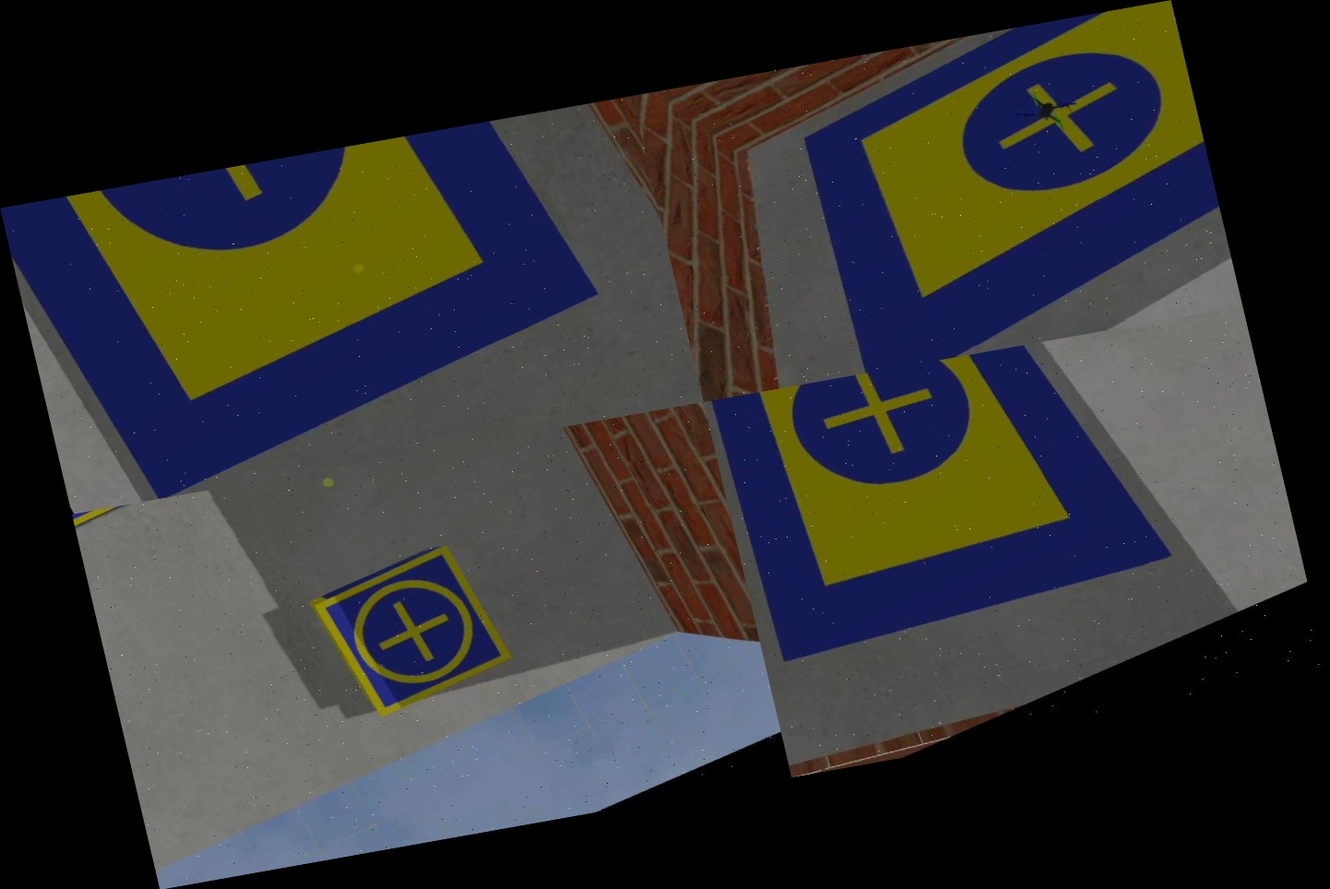large_base: (0, 108, 632, 514), (711, 0, 1242, 387), (704, 327, 1196, 719)
small_base: (303, 534, 525, 727)
